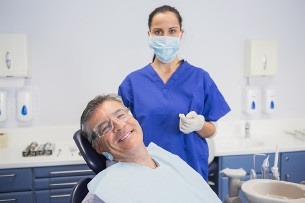Mask: (147, 24, 181, 57)
